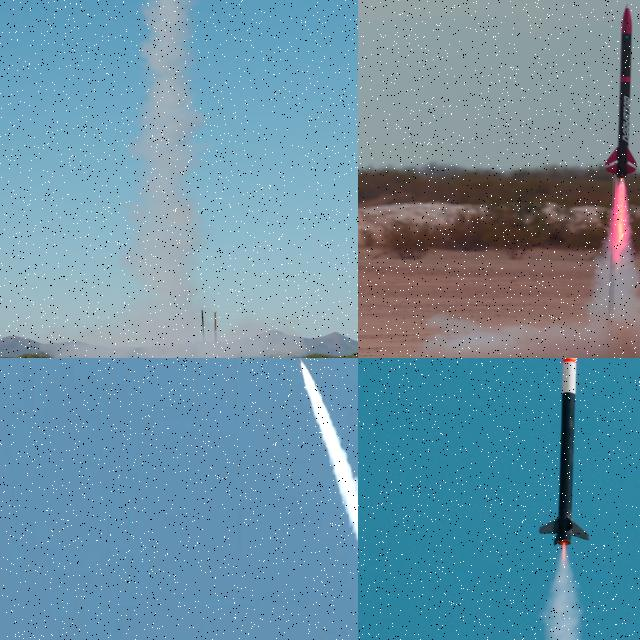Rocket: (541, 358, 591, 545), (605, 3, 638, 180), (294, 358, 302, 363)
